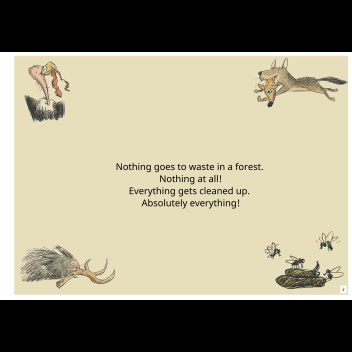latin: (127, 184, 250, 197), (114, 161, 264, 171), (138, 197, 240, 209), (157, 172, 222, 184)
